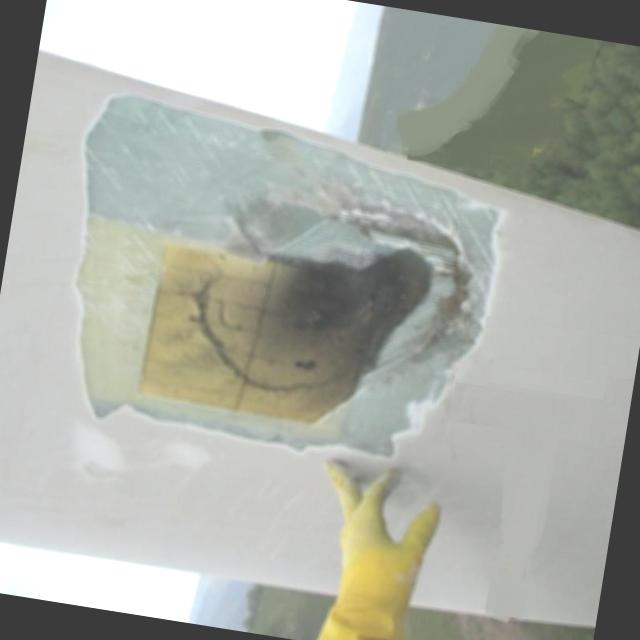crack: (172, 192, 454, 430)
surface_peeling: (28, 82, 188, 433), (187, 106, 460, 208), (144, 394, 414, 476), (434, 196, 519, 410)
